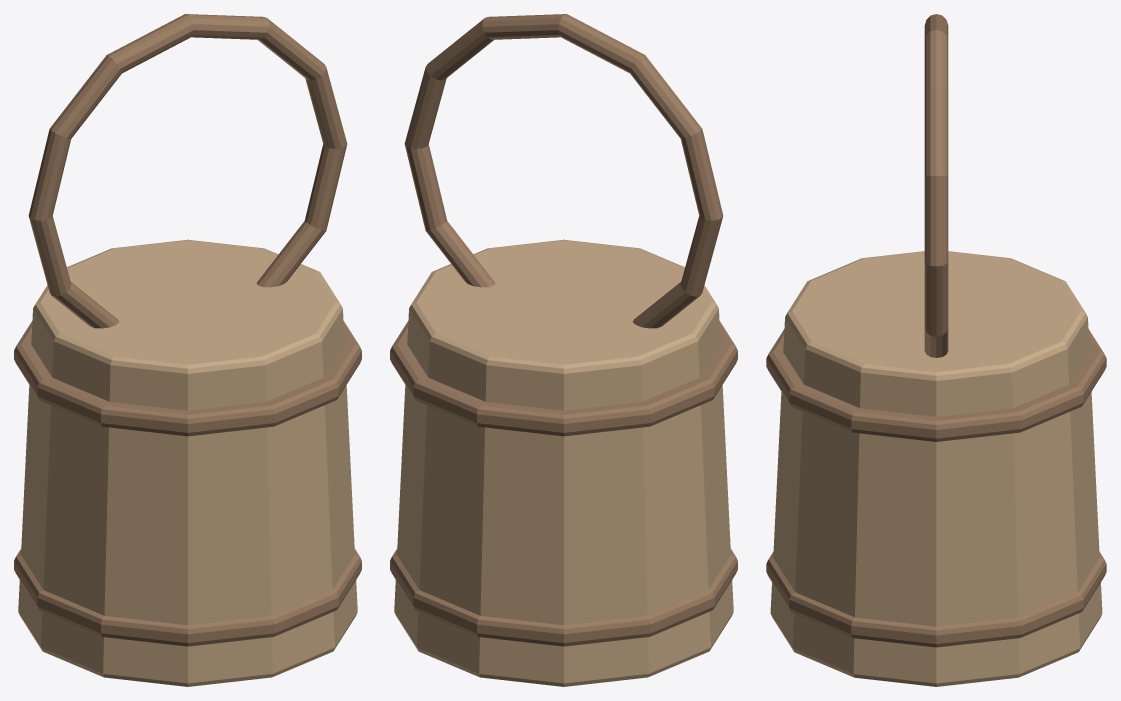
The model's file is bucket.glb.
The picture shows the model from 3 angles, left to right: view 1: azimuth 30°, elevation 25°; view 2: azimuth 150°, elevation 25°; view 3: azimuth 270°, elevation 25°; orthographic projection. The views are drawn at different scales.
Parts seen in each view (by area): view 1: Bucket; view 2: Bucket; view 3: Bucket.
Part boxes in pixels (x1,y1,x2,y2): Bucket: [14, 14, 361, 686]; Bucket: [390, 14, 737, 686]; Bucket: [766, 14, 1106, 686].
Size of the model in its own units: 0.4709 by 0.8604 by 0.45.
